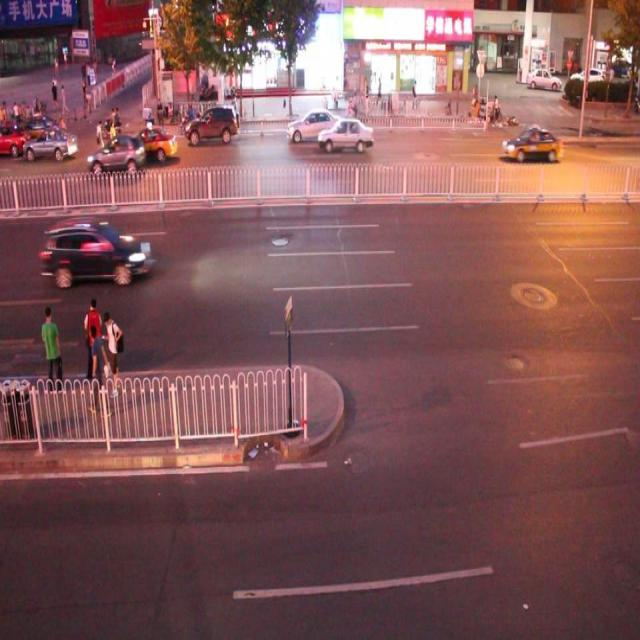car: (36, 216, 154, 295), (84, 131, 146, 182), (504, 124, 564, 170), (318, 114, 374, 160), (183, 103, 237, 148), (286, 102, 338, 146), (22, 130, 77, 166)
